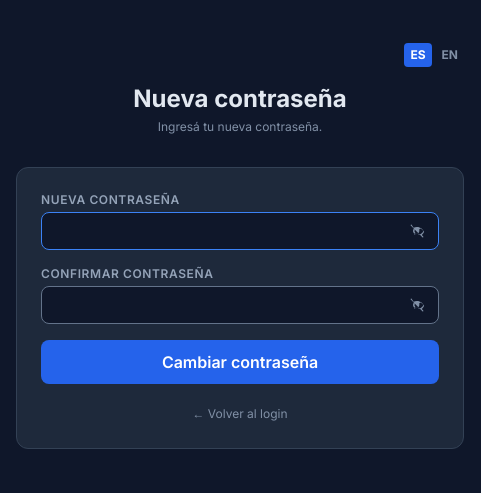
Test case: ResetPassword › traduce el código del backend en vez de mostrarlo crudo
The image size is (481, 493).
Type "una-clave-valida" into the 1st password field at (240, 231), box [41,212,439,250]
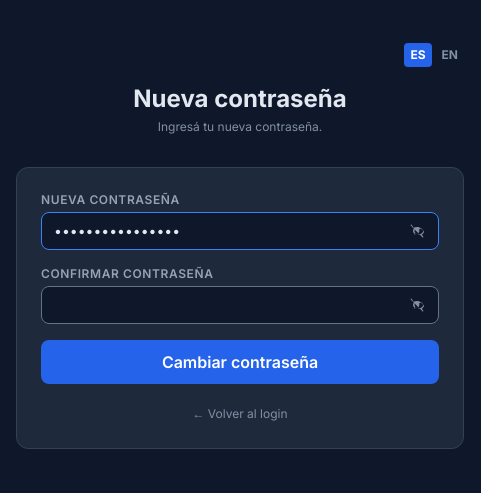
Type "una-clave-valida" into the password field below "Confirmar contraseña" at (240, 305), box [41,286,439,324]
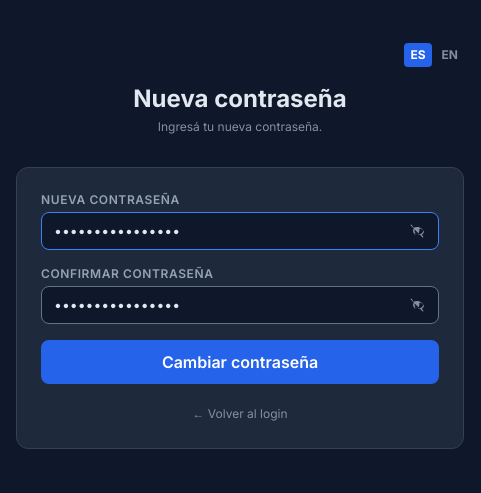
Click the button "Cambiar contraseña" at (240, 362), box [41,340,439,384]
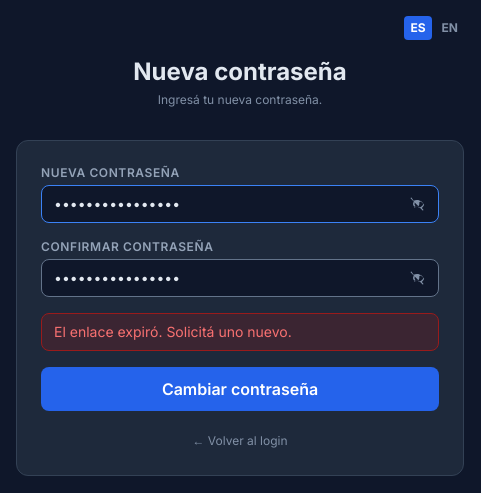
expect the text "El enlace expiró. Solicitá uno nuevo." is shown: met, box [41,313,439,351]
